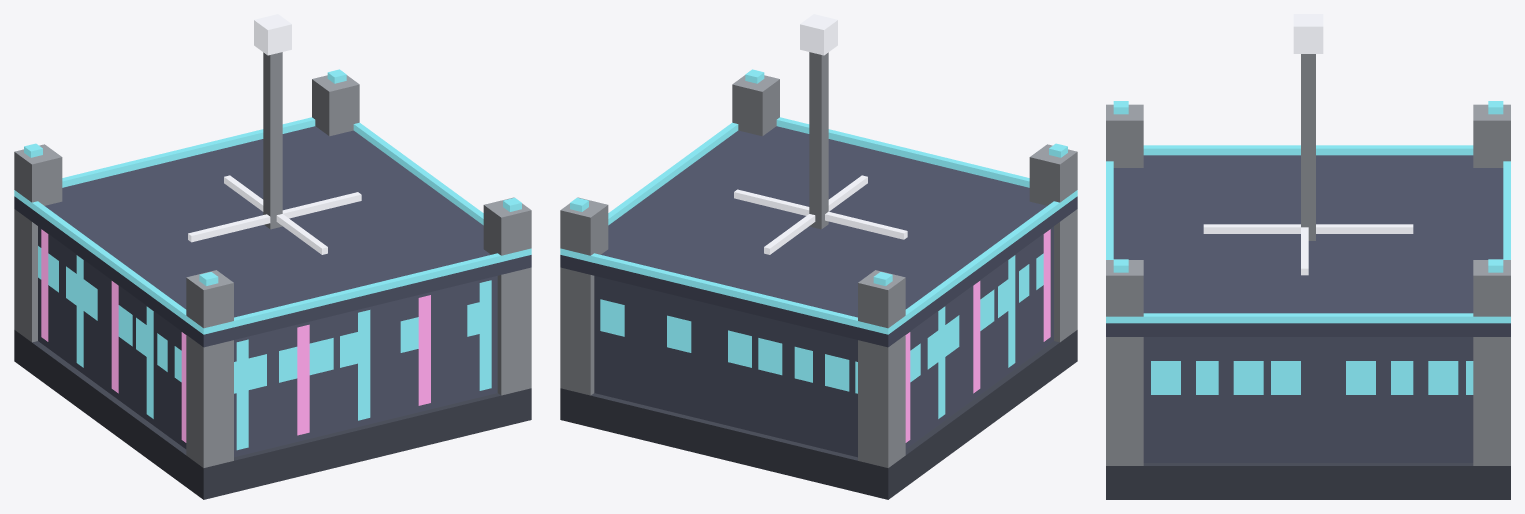
3 renders of one model, left to right at view 1: azimuth 30°, elevation 25°; view 2: azimuth 150°, elevation 25°; view 3: azimuth 270°, elevation 25°, orthographic. The views are drawn at different scales.
Parts seen in each view (by area): view 1: structure, emissive; view 2: structure, emissive; view 3: structure, emissive.
Part boxes in pixels (x1,y1,x2,y2): structure: [14, 52, 531, 499]; emissive: [14, 14, 531, 450]; structure: [560, 52, 1077, 499]; emissive: [560, 14, 1077, 442]; structure: [1106, 54, 1510, 499]; emissive: [1106, 14, 1510, 394].
Size of the model in its own units: 13.5 by 14.5 by 13.5.
